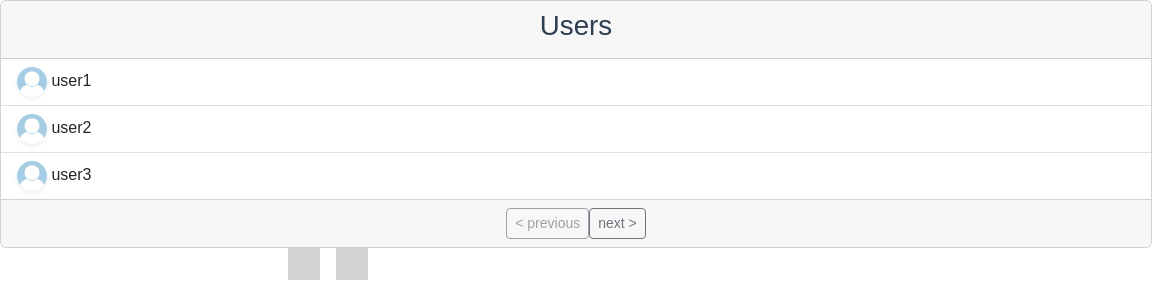
User List › disables next page button when on last page
Check: the text "user1" is shown, box [17,67,92,97]
Click the button "next >". click: (617, 224)
box: [589,208,646,239]
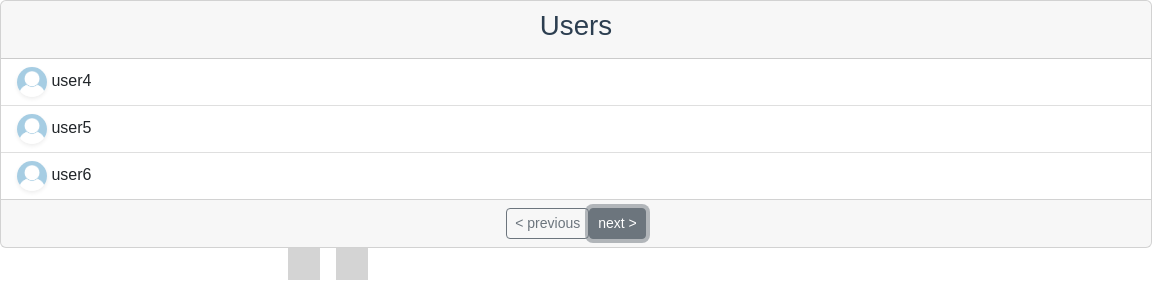
Check: the text "user4" is shown, box [17,67,92,97]
Click the button "next >". click: (617, 224)
box: [589,208,646,239]
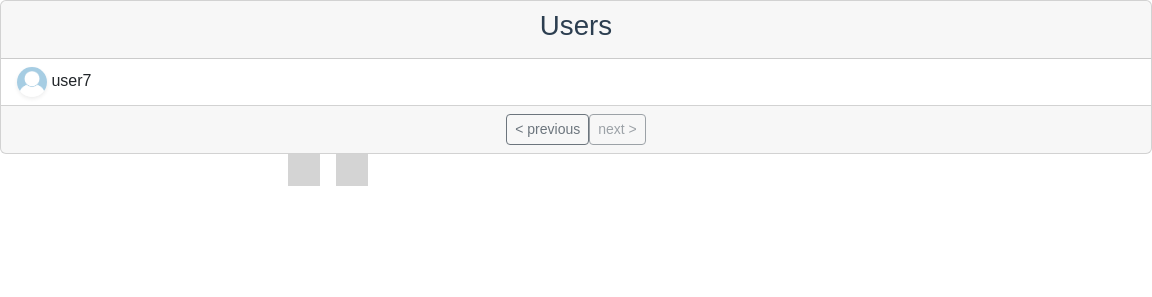
Check: the text "user7" is shown, box [17,67,92,97]
Check: the button "next >" is disabled, box [589,114,646,145]
